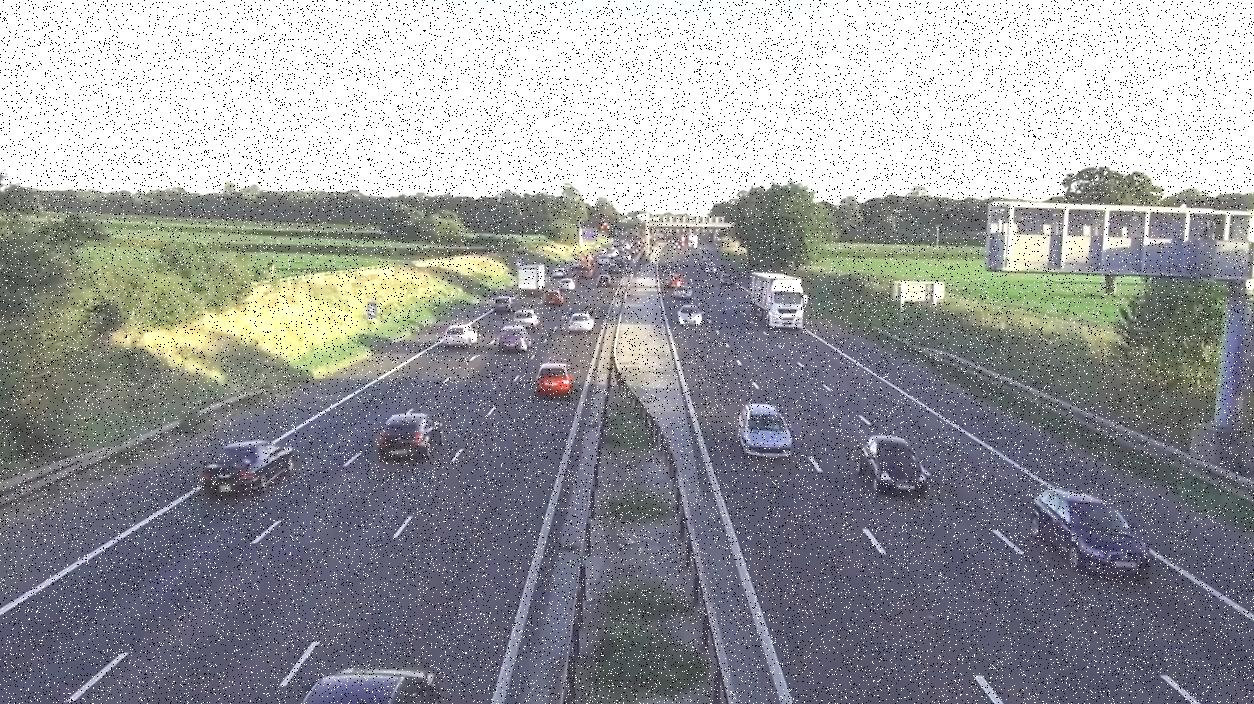car: (1027, 485, 1151, 571), (301, 665, 451, 704), (199, 441, 297, 494), (860, 431, 928, 500), (735, 403, 795, 448), (380, 412, 437, 447), (533, 364, 573, 399), (497, 326, 535, 355), (445, 327, 477, 349), (677, 304, 703, 326), (568, 314, 595, 333), (514, 310, 539, 326), (494, 296, 513, 314)
truck: (751, 274, 805, 329)
